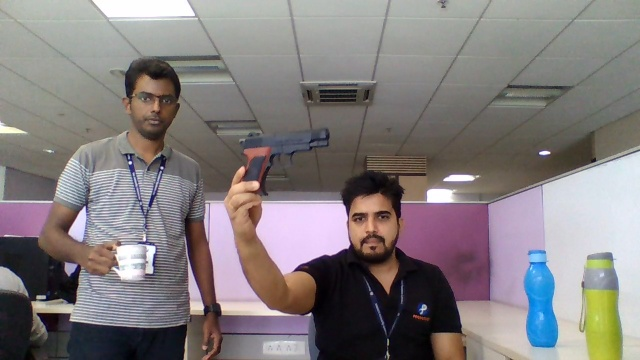gun: (240, 129, 331, 180)
